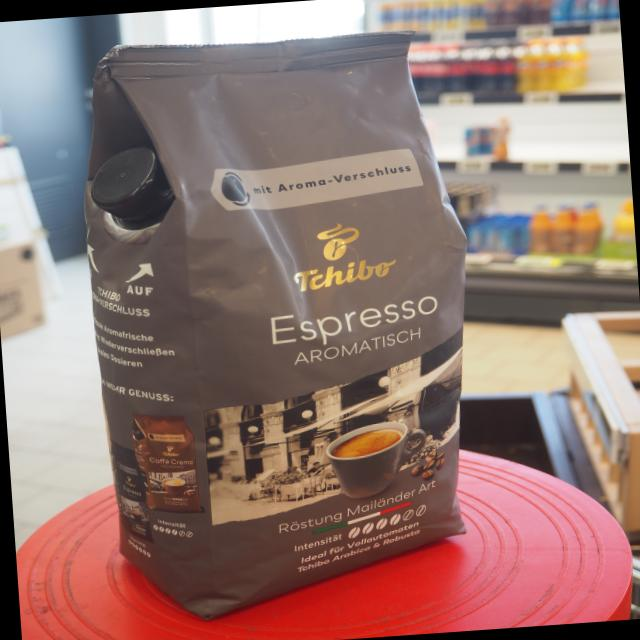Espresso Aromatisch: (67, 16, 505, 635)
